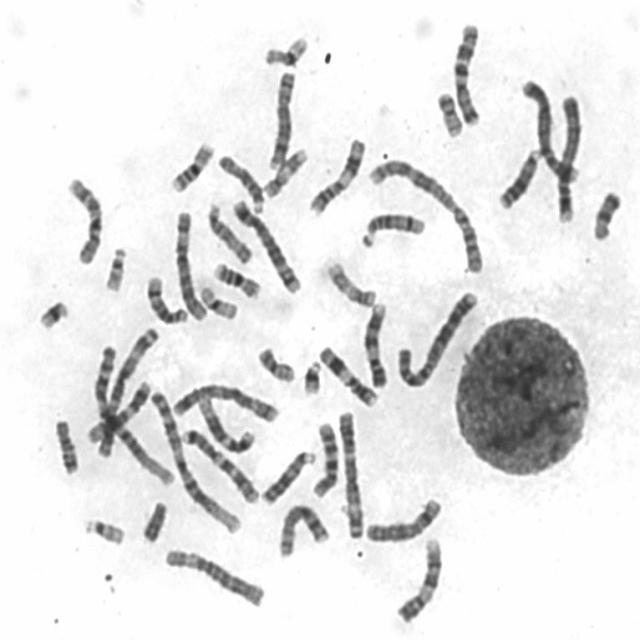A1: (145, 385, 244, 537), (88, 338, 176, 489)
A2: (364, 154, 486, 276), (392, 285, 481, 390)
A3: (85, 323, 161, 453), (333, 405, 366, 541)
B4: (517, 74, 582, 185), (552, 89, 584, 225)
B5: (228, 194, 302, 296), (168, 378, 280, 425)
C10: (63, 170, 105, 267), (308, 417, 340, 499)
C11: (304, 132, 368, 216), (314, 341, 380, 409)
C12: (82, 375, 153, 448), (194, 391, 257, 454)
C6: (160, 542, 268, 610), (170, 204, 210, 323)
C7: (176, 423, 262, 506), (448, 16, 484, 128)
C8: (263, 65, 299, 172), (274, 499, 332, 560)
C9: (392, 531, 444, 624), (359, 297, 390, 389)
D13: (256, 445, 318, 506), (494, 142, 544, 211)
D14: (357, 207, 426, 249), (142, 270, 190, 326)
D15: (213, 149, 266, 215), (203, 198, 254, 265)
E16: (166, 135, 217, 194), (209, 258, 262, 300)
E17: (322, 254, 378, 310), (259, 142, 310, 200)
E18: (588, 185, 624, 242), (49, 413, 81, 476)
F19: (259, 30, 310, 68), (195, 280, 239, 322)
F20: (253, 342, 297, 384), (432, 86, 465, 138)
G21: (33, 294, 71, 332), (298, 355, 324, 397)
G22: (79, 512, 126, 547), (100, 242, 128, 294)
X: (359, 492, 444, 544)
Y: (137, 496, 170, 544)
